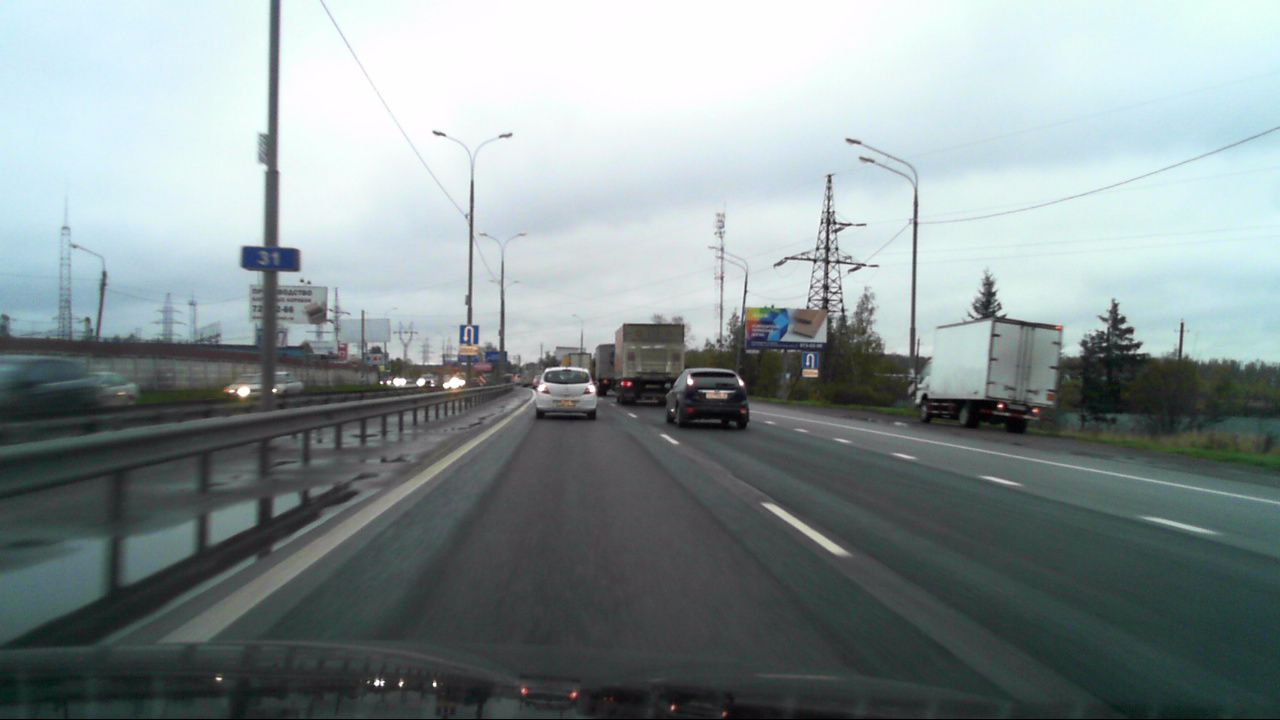U-turn: (459, 325, 479, 345), (802, 352, 819, 369)
